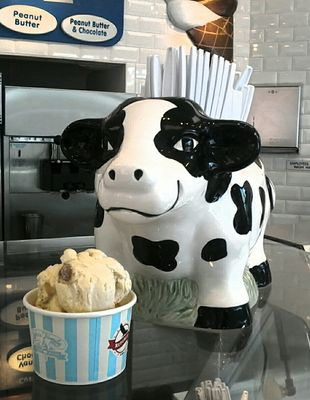pizza: (23, 291, 137, 388)
